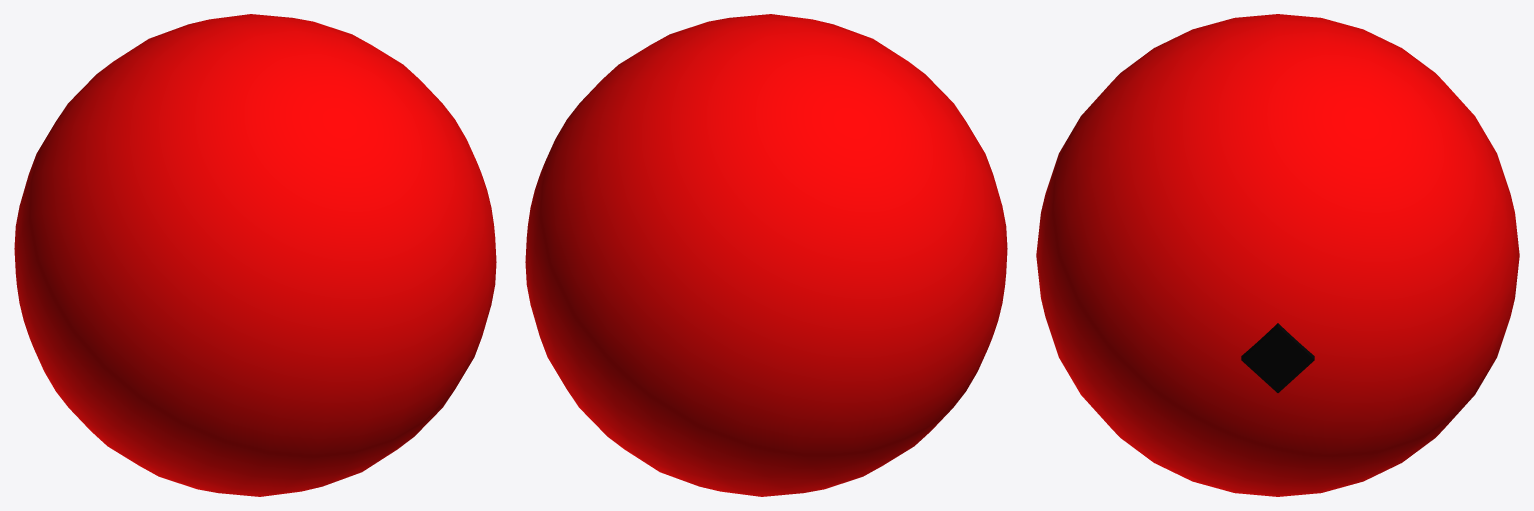
The model's file is SM_EyeRotatedPupil.FBX.
3 renders of one model, left to right at view 1: azimuth 30°, elevation 25°; view 2: azimuth 150°, elevation 25°; view 3: azimuth 270°, elevation 25°, orthographic.
Parts seen in each view (by area): view 1: Sphere001; view 2: Sphere001; view 3: Sphere001.
Part boxes in pixels (x1,y1,x2,y2): Sphere001: (14, 14, 496, 496); Sphere001: (525, 14, 1007, 496); Sphere001: (1036, 14, 1519, 496).
Bounding box in the file's own units: 61.59 × 60.86 × 60.86.
